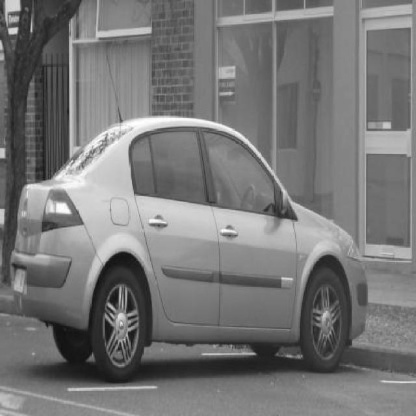car: (10, 111, 370, 377)
